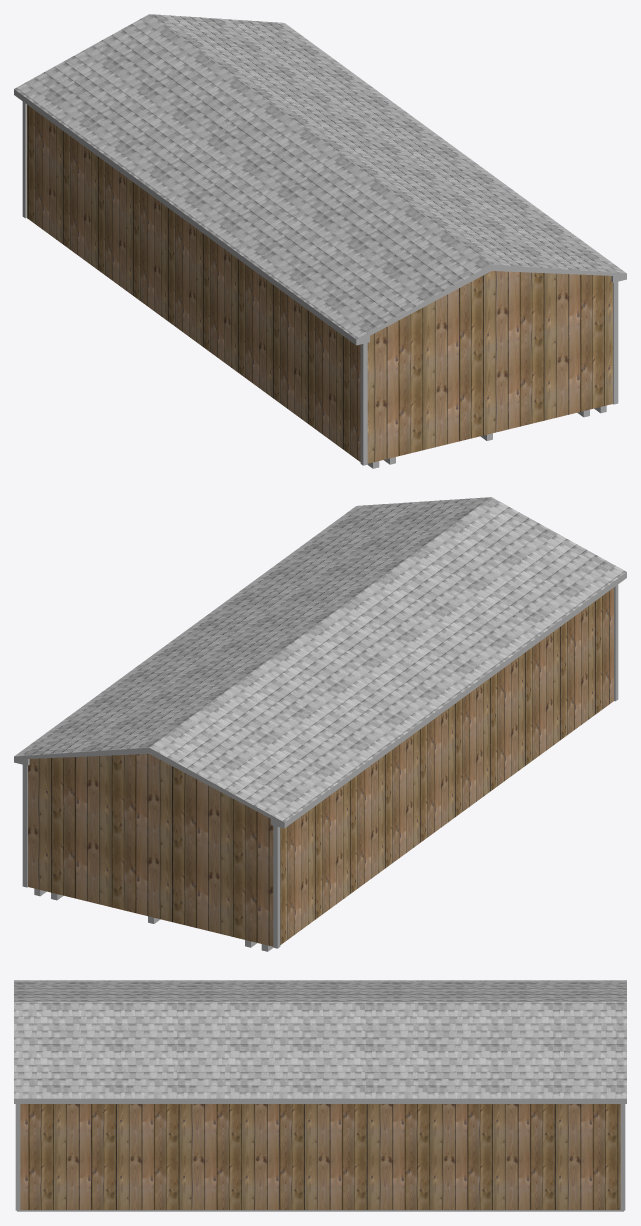
The model's file is A-frame_14x32.obj.
3 views of the same model, one above another, from view 1: azimuth 30°, elevation 25°; view 2: azimuth 150°, elevation 25°; view 3: azimuth 270°, elevation 25° (orthographic). The views are drawn at different scales.
Parts seen in each view (by area): view 1: Roof, Shed, Sides, Trim; view 2: Roof, Shed, Sides, Trim; view 3: Roof, Shed, Sides, Trim, Floor.
Part boxes in pixels (x1,y1,x2,y2): Roof: (14, 14, 626, 339); Shed: (27, 105, 612, 463); Sides: (14, 89, 626, 345); Trim: (22, 101, 618, 465); Roof: (14, 497, 626, 822); Shed: (28, 588, 613, 946); Sides: (14, 572, 626, 828); Trim: (22, 584, 618, 948); Roof: (14, 980, 626, 1098); Shed: (20, 1104, 620, 1209); Sides: (14, 1098, 626, 1103); Trim: (15, 1104, 625, 1210); Floor: (17, 1210, 623, 1211).
Size of the model in its own units: 4.5 by 2.81 by 9.86.
